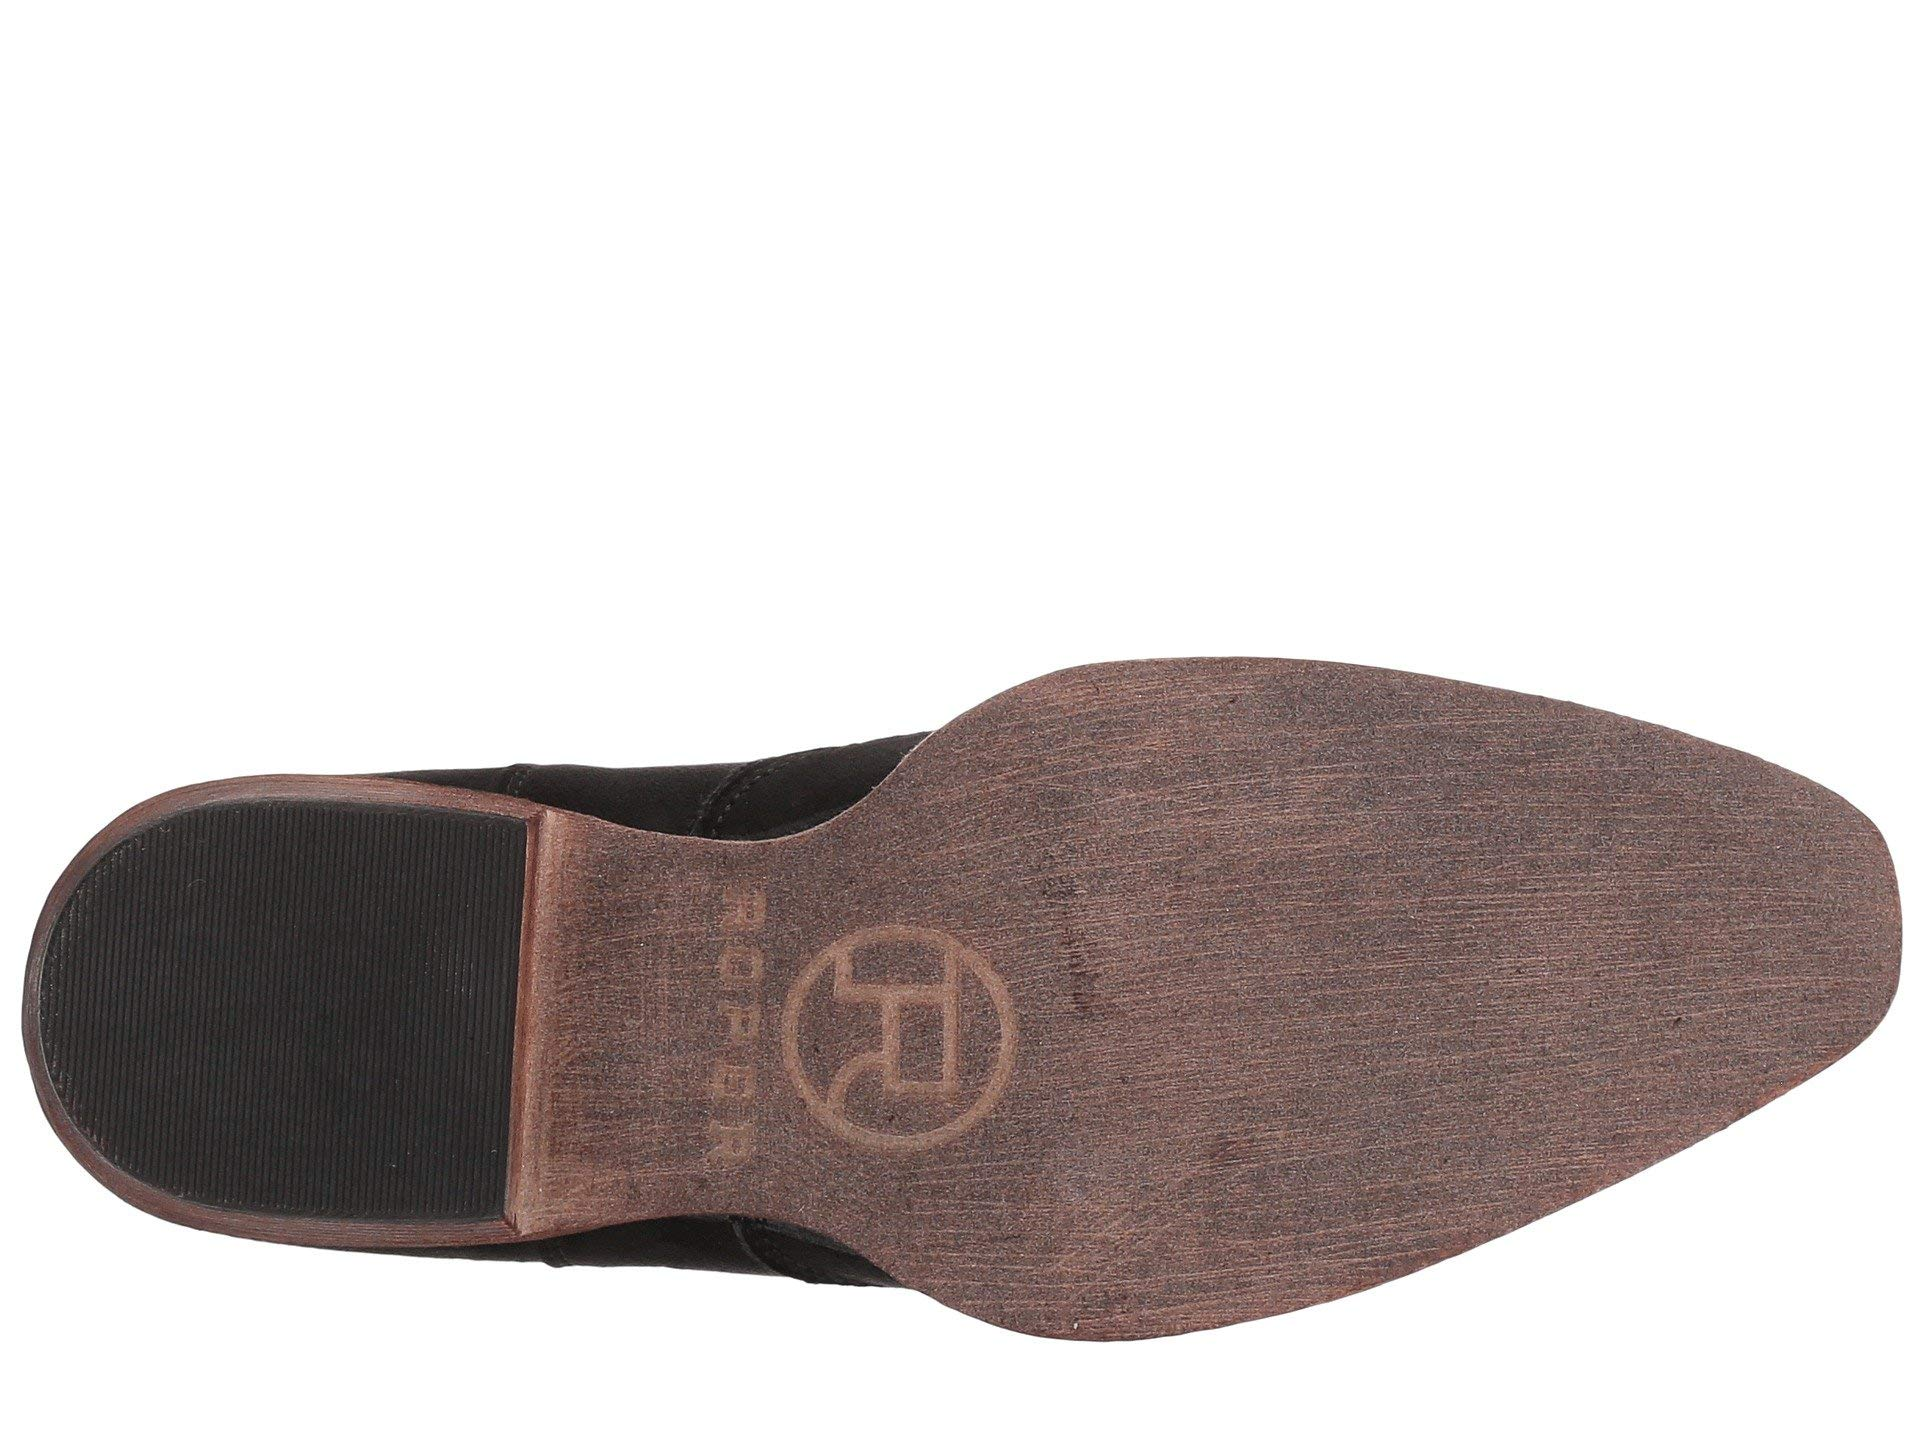circle: (662, 846, 1079, 1190)
line: (119, 811, 469, 1159)
quad: (662, 846, 1079, 1190)
text: (662, 846, 1079, 1190)
